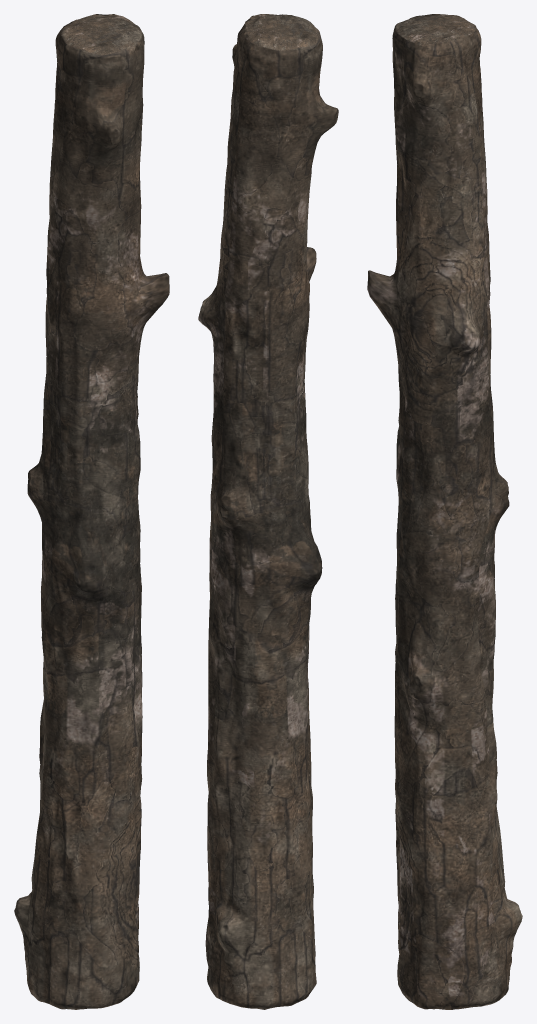
File: SM_Log_E.fbx
The picture shows the model from 3 angles, left to right: view 1: azimuth 90°, elevation 25°; view 2: azimuth 150°, elevation 25°; view 3: azimuth 270°, elevation 25°; orthographic projection.
Parts seen in each view (by area): view 1: SM_Log_E_LOD0; view 2: SM_Log_E_LOD0; view 3: SM_Log_E_LOD0.
Part boxes in pixels (box(x1,y1,x2,y2)): SM_Log_E_LOD0: box(14, 14, 169, 1009); SM_Log_E_LOD0: box(198, 14, 338, 1009); SM_Log_E_LOD0: box(367, 14, 522, 1009).
Bounding box in the file's own units: 40.28 × 44.75 × 308.
1 material, 1 textured.
